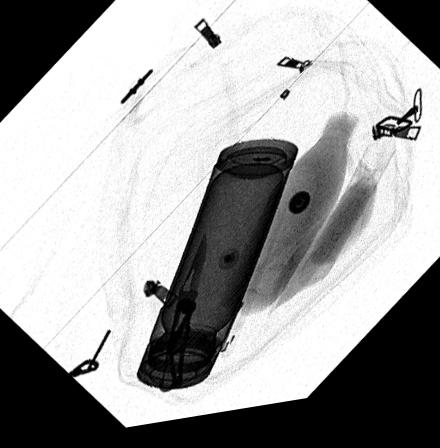Knife: (157, 236, 207, 398)
